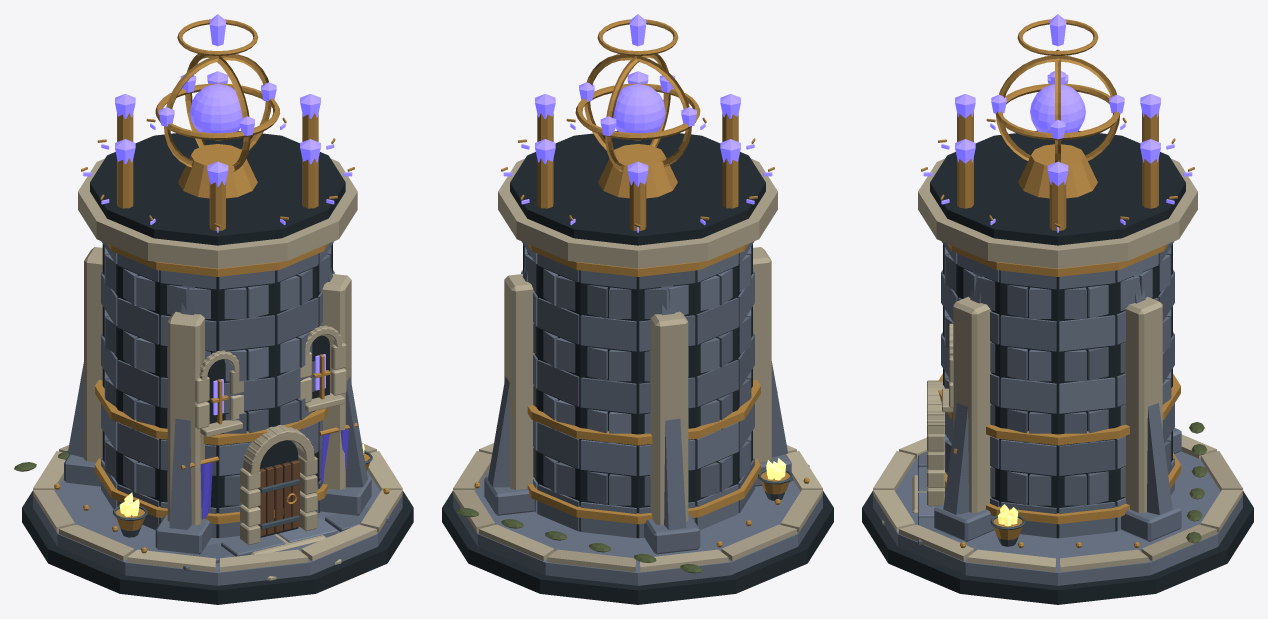
The model's file is mage__arcanista__L20.glb.
3 renders of one model, left to right at view 1: azimuth 30°, elevation 25°; view 2: azimuth 150°, elevation 25°; view 3: azimuth 270°, elevation 25°, orthographic.
Visible parts, largest first — view 1: structure, weapon, banners; view 2: structure, weapon; view 3: structure, weapon.
Boxes of the visible parts, x1,y1,x2,y2 form: structure: (14,14,413,604); weapon: (155,54,280,198); banners: (180,422,357,519); structure: (442,14,833,604); weapon: (575,54,700,198); structure: (862,14,1253,604); weapon: (991,49,1124,198).
Size of the model in its own units: 0.8624 by 1.23 by 0.8624.
